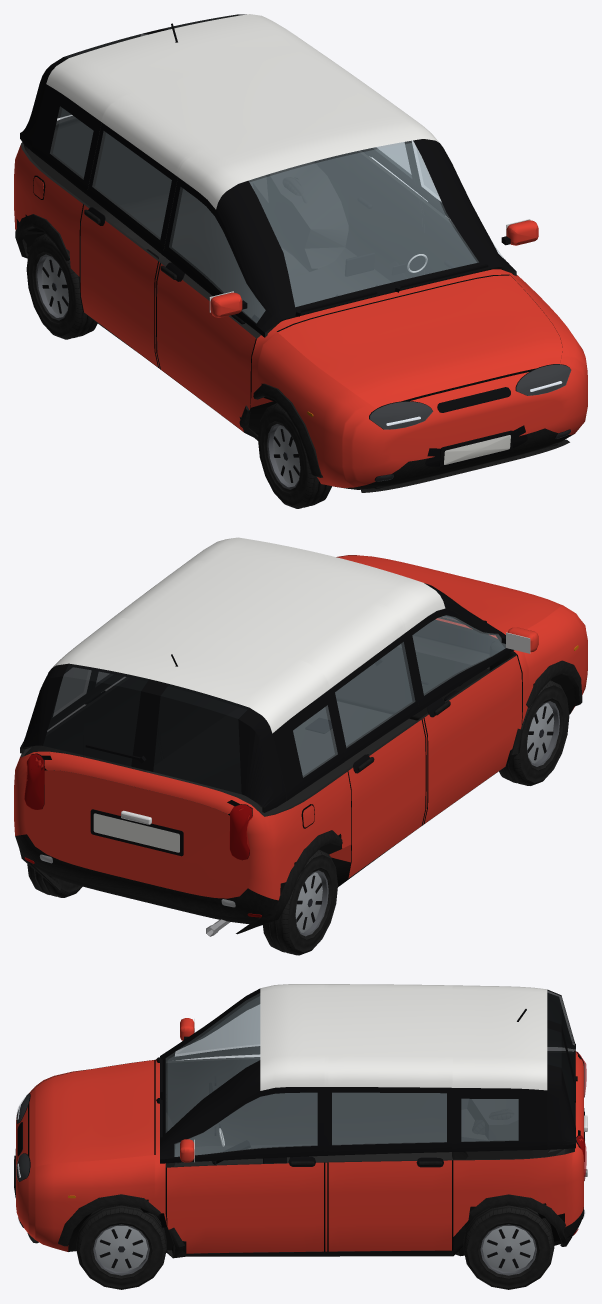
The model's file is pico_lod2.glb.
The picture shows the model from 3 angles, top to bottom: view 1: azimuth 30°, elevation 25°; view 2: azimuth 150°, elevation 25°; view 3: azimuth 270°, elevation 25°; orthographic projection. The views are drawn at different scales.
Visible parts, largest first — view 1: pico, hood, door_FR, door_RR, door_RL, popout_RR, wheel_RR, wheel_FR, door_FL, tailgate; view 2: pico, tailgate, door_FR, door_RR, hood, popout_RR, wheel_RR, door_RL, wheel_FR, door_FL, wheel_RL; view 3: pico, door_FL, door_RL, hood, door_FR, wheel_RL, wheel_FL, popout_RL, door_RR, tailgate.
Part boxes in pixels (x1,y1,x2,y2): pico: (14, 14, 587, 492); hood: (278, 275, 562, 408); door_FR: (155, 177, 271, 440); door_RR: (80, 122, 174, 366); door_RL: (345, 141, 422, 282); popout_RR: (92, 131, 171, 239); wheel_RR: (26, 233, 97, 339); wheel_FR: (258, 403, 331, 508); door_FL: (408, 141, 538, 274); tailgate: (20, 14, 246, 150); pico: (14, 537, 587, 936); tailgate: (20, 664, 286, 824); door_FR: (407, 608, 538, 824); door_RR: (330, 633, 425, 878); hood: (338, 555, 561, 634); popout_RR: (335, 642, 414, 748); wheel_RR: (263, 849, 337, 955); door_RL: (83, 671, 160, 771); wheel_FR: (499, 680, 569, 785); door_FL: (158, 687, 238, 759); wheel_RL: (27, 864, 82, 897); pico: (14, 984, 587, 1258); door_FL: (167, 1087, 327, 1257); door_RL: (328, 1087, 451, 1251); hood: (29, 1060, 154, 1168); door_FR: (167, 1000, 317, 1163); wheel_RL: (463, 1205, 554, 1289); wheel_FL: (76, 1204, 166, 1289); popout_RL: (332, 1092, 446, 1144); door_RR: (332, 1092, 446, 1143); tailgate: (547, 989, 587, 1149).
Bounding box in the file's own units: 1.96 × 1.58 × 3.59.
41 materials, 5 textured.
